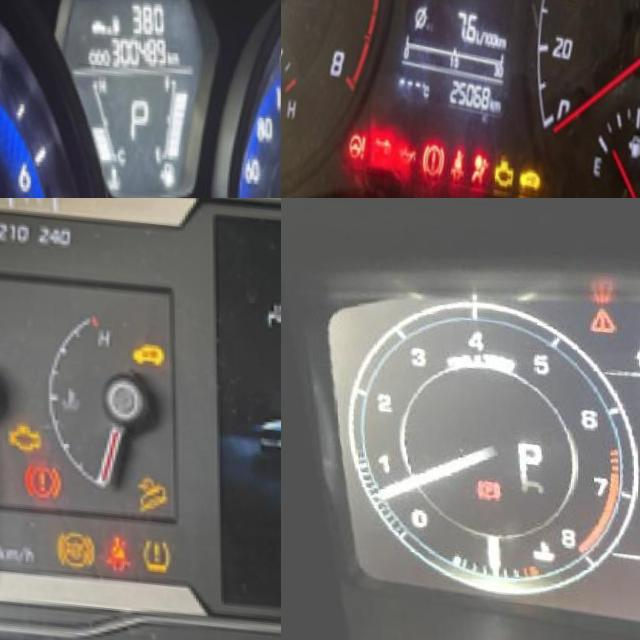Engine cooling system: (528, 534, 553, 564)
Seat Belt: (101, 523, 133, 566)
security: (516, 153, 542, 187)
